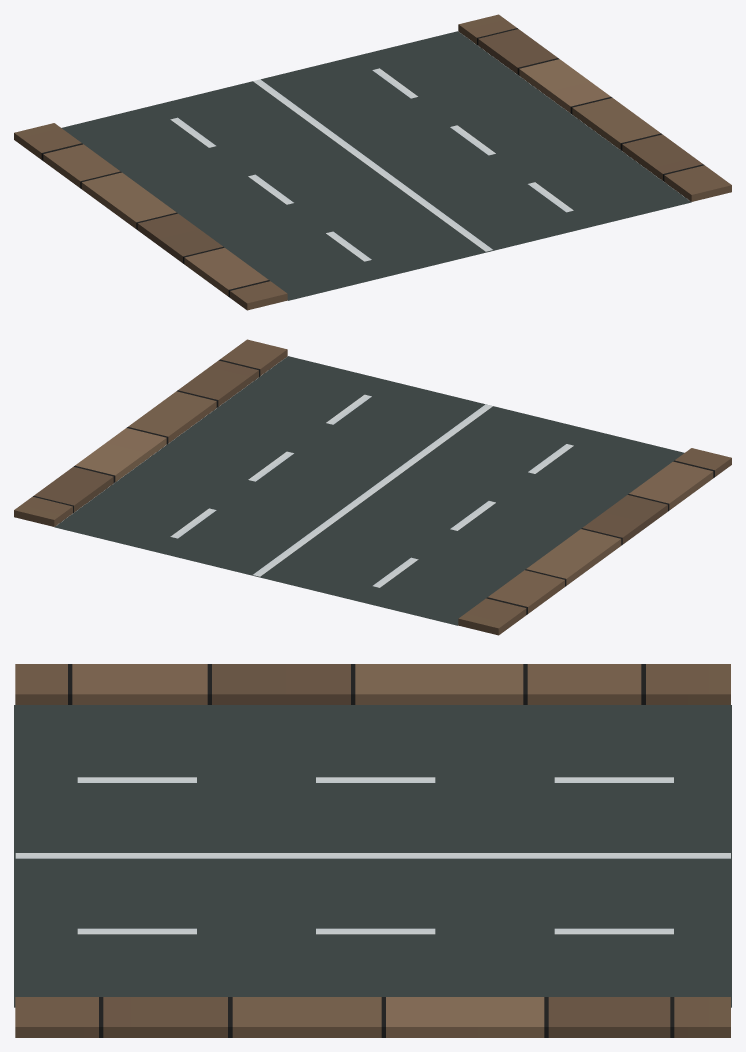
Rendered from Road_1_202.fbx.
3 views of the same model, one above another, from view 1: azimuth 30°, elevation 25°; view 2: azimuth 150°, elevation 25°; view 3: azimuth 270°, elevation 25° (orthographic). The views are drawn at different scales.
Visible parts, largest first — view 1: Road_1_202; view 2: Road_1_202; view 3: Road_1_202.
Part boxes in pixels (<box>): Road_1_202: <box>14,14,731,310</box>; Road_1_202: <box>14,339,731,635</box>; Road_1_202: <box>14,664,731,1037</box>.
Size of the model in its own units: 2161 by 30 by 1806.
